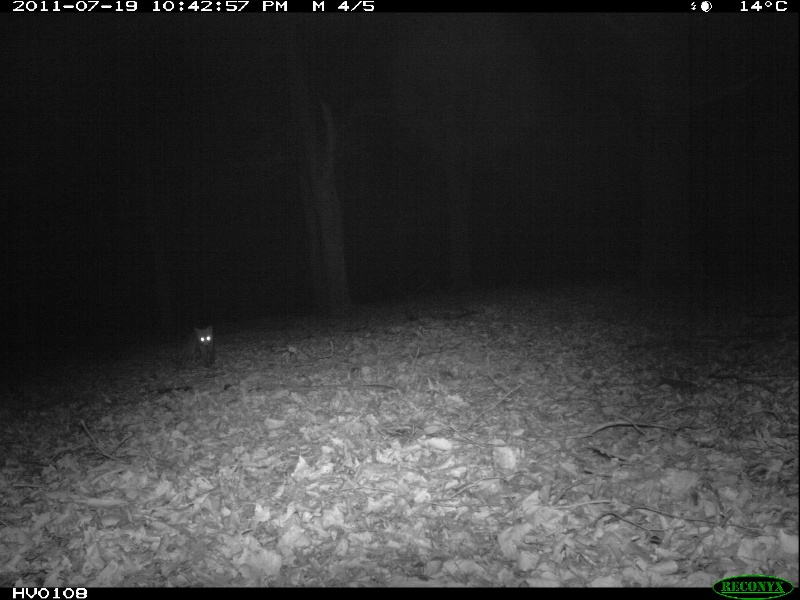fox: (181, 328, 219, 365)
